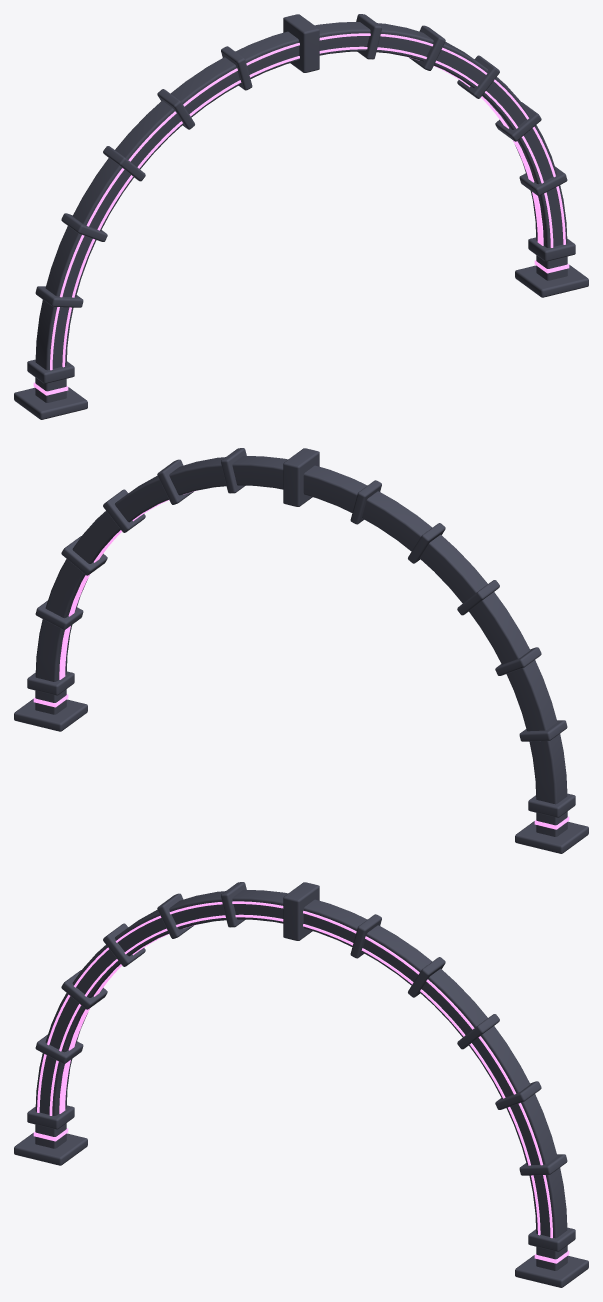
The model's file is arch.glb.
3 renders of one model, top to bottom at view 1: azimuth 30°, elevation 25°; view 2: azimuth 150°, elevation 25°; view 3: azimuth 330°, elevation 25°, orthographic.
Parts seen in each view (by area): view 1: body, trim; view 2: body, trim; view 3: body, trim.
Part boxes in pixels (<box>): body: <box>14,14,588,419</box>; trim: <box>33,33,569,395</box>; body: <box>14,448,588,853</box>; trim: <box>33,490,569,829</box>; body: <box>14,882,588,1287</box>; trim: <box>33,901,569,1263</box>.
Bounding box in the file's own units: 5.26 × 2.94 × 0.46.
